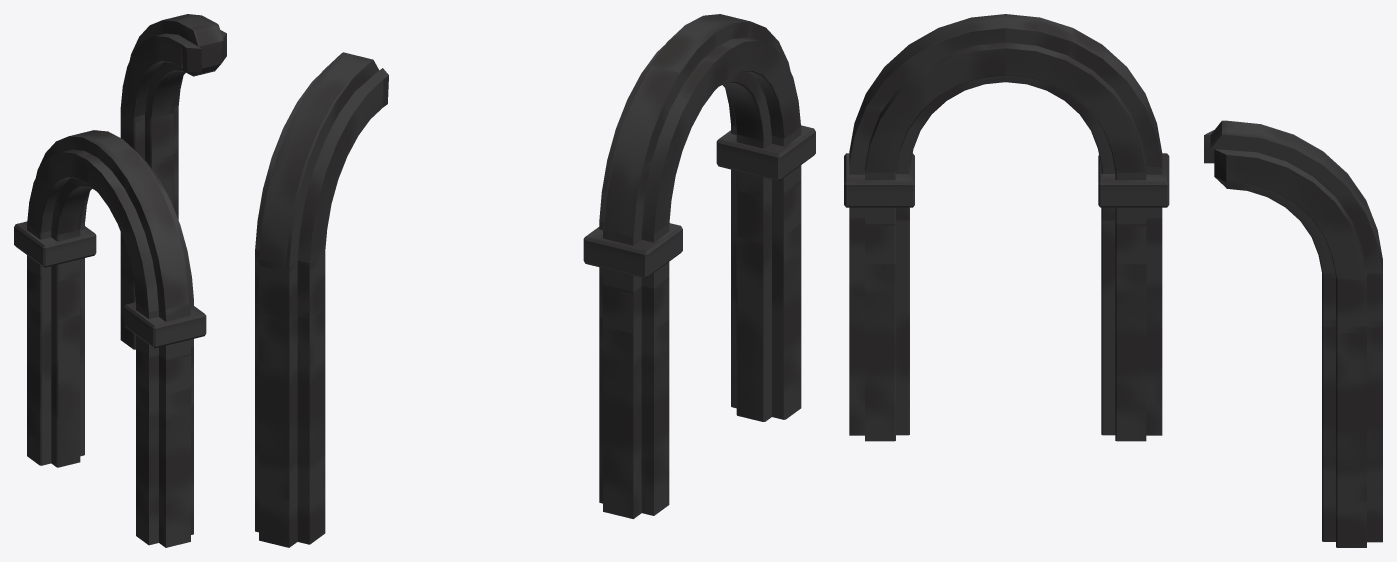
File: SM_BiggggArch.fbx
3 views of the same model, side by side, from view 1: azimuth 30°, elevation 25°; view 2: azimuth 150°, elevation 25°; view 3: azimuth 270°, elevation 25° (orthographic). The views are drawn at different scales.
Parts seen in each view (by area): view 1: BiGARCH_ARCH, BiGARCH_ARCH1, Wall51, Wall62; view 2: BiGARCH_ARCH, BiGARCH_ARCH1, Wall62, Wall51; view 3: BiGARCH_ARCH, BiGARCH_ARCH1, Wall62, Wall51.
Part boxes in pixels (left/top/right/bottom): BiGARCH_ARCH: left=27, top=130, right=193, bottom=547; BiGARCH_ARCH1: left=120, top=14, right=226, bottom=349; Wall51: left=124, top=302, right=206, bottom=348; Wall62: left=14, top=221, right=96, bottom=267; BiGARCH_ARCH: left=599, top=14, right=801, bottom=519; BiGARCH_ARCH1: left=255, top=52, right=388, bottom=547; Wall62: left=583, top=223, right=682, bottom=278; Wall51: left=716, top=125, right=815, bottom=180; BiGARCH_ARCH: left=849, top=14, right=1162, bottom=441; BiGARCH_ARCH1: left=1204, top=120, right=1382, bottom=547; Wall62: left=1098, top=153, right=1169, bottom=207; Wall51: left=844, top=153, right=914, bottom=207.
Bounding box in the file's own units: 504 × 713 × 854.
